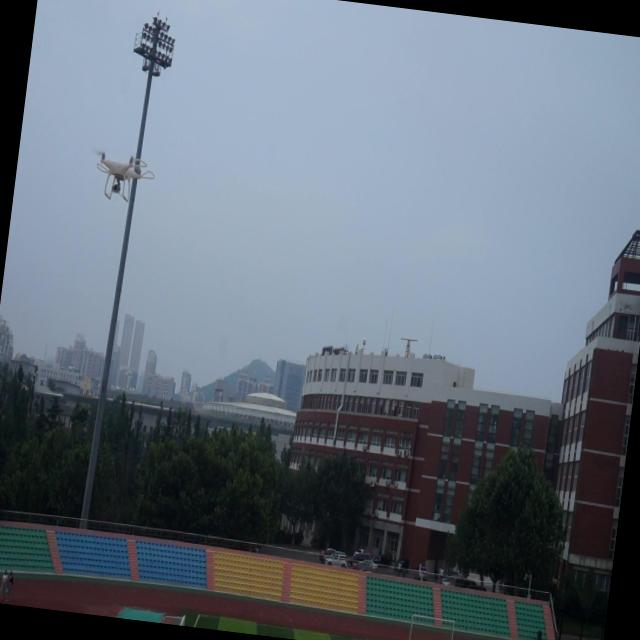drone: (90, 144, 155, 208)
